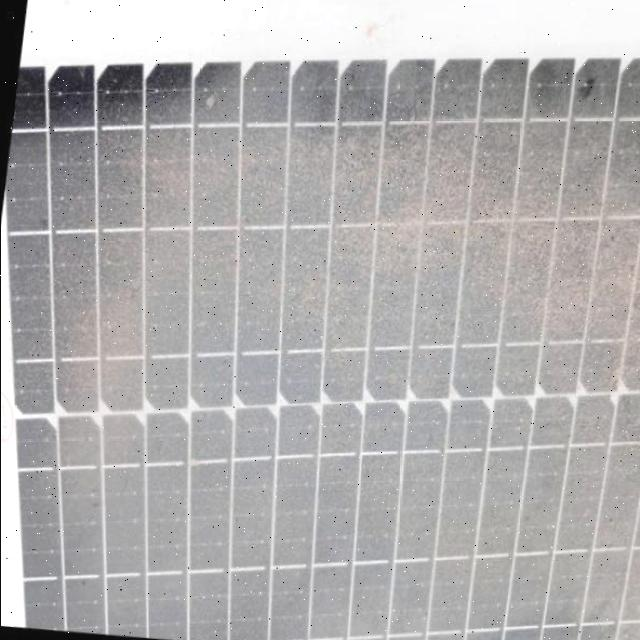Anomaly Solar Panel: (0, 0, 640, 640)
Surface Contaminant: (42, 4, 640, 640)
